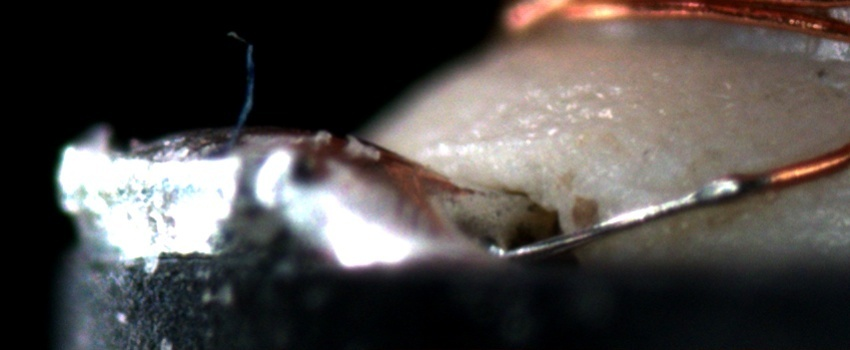TS: (499, 173, 770, 260)
TTCW: (504, 155, 829, 263)
